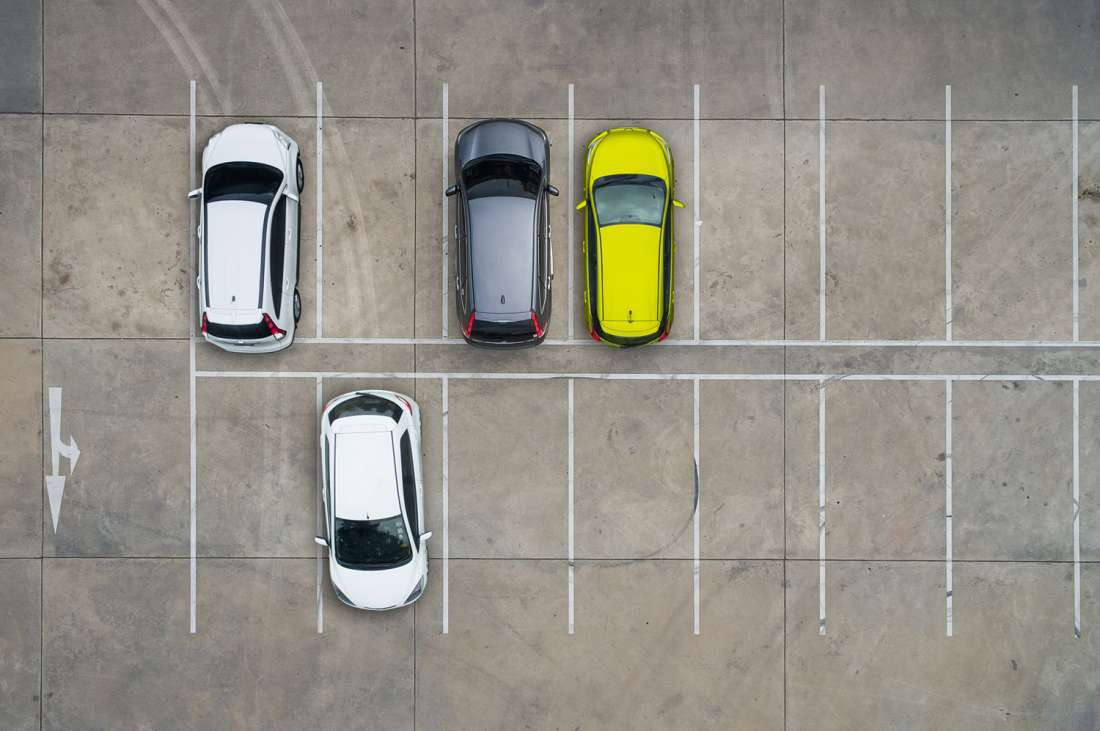empyt_space: (683, 83, 836, 352), (433, 370, 584, 642), (560, 370, 712, 640), (306, 78, 455, 349), (814, 371, 958, 645), (812, 84, 956, 356), (941, 373, 1085, 645), (941, 80, 1083, 355), (189, 367, 329, 644), (689, 372, 829, 641)
